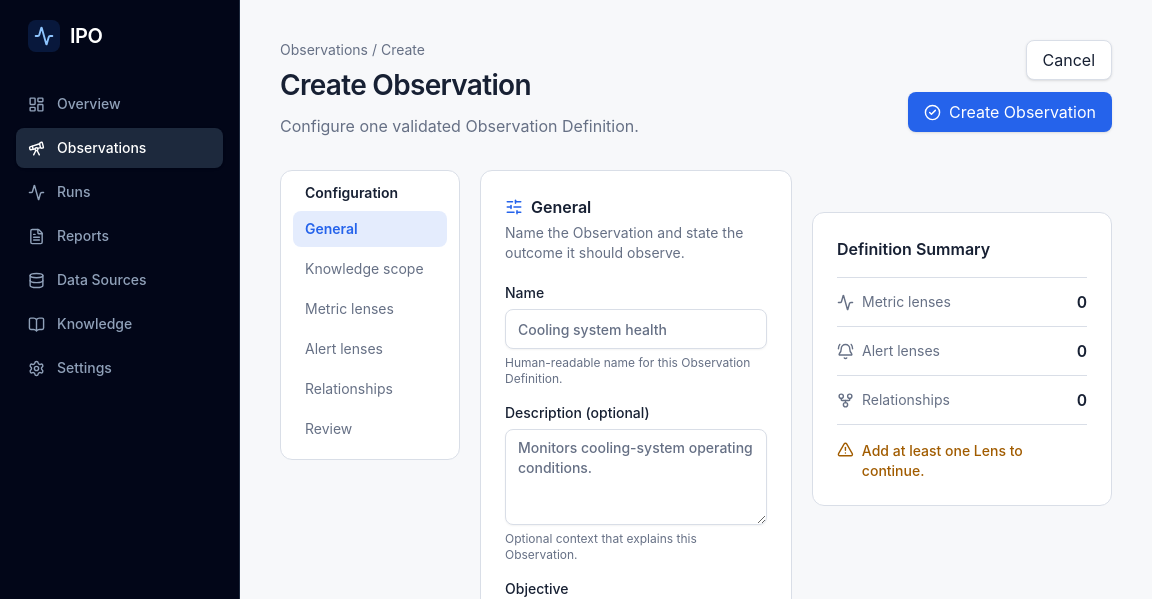
Test: Observation create routes › blocks locally invalid submits with no POST and retains the draft
The width and height of the screenshot is (1152, 599).
Click the button "Create Observation" at coordinates (1010, 112), box left=908, top=92, right=1112, bottom=132
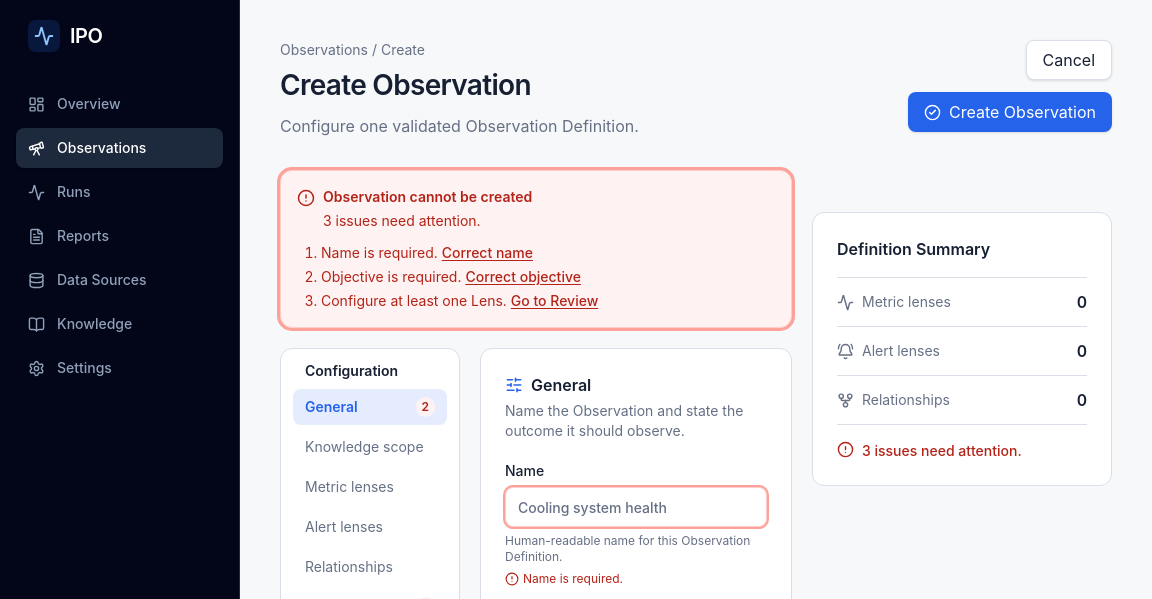
Result: the message "Observation cannot be created" shows "Name is required." at left=321, top=244, right=438, bottom=261
Result: the number of list items "Configure at least one Lens." is 1 at left=321, top=292, right=598, bottom=309
